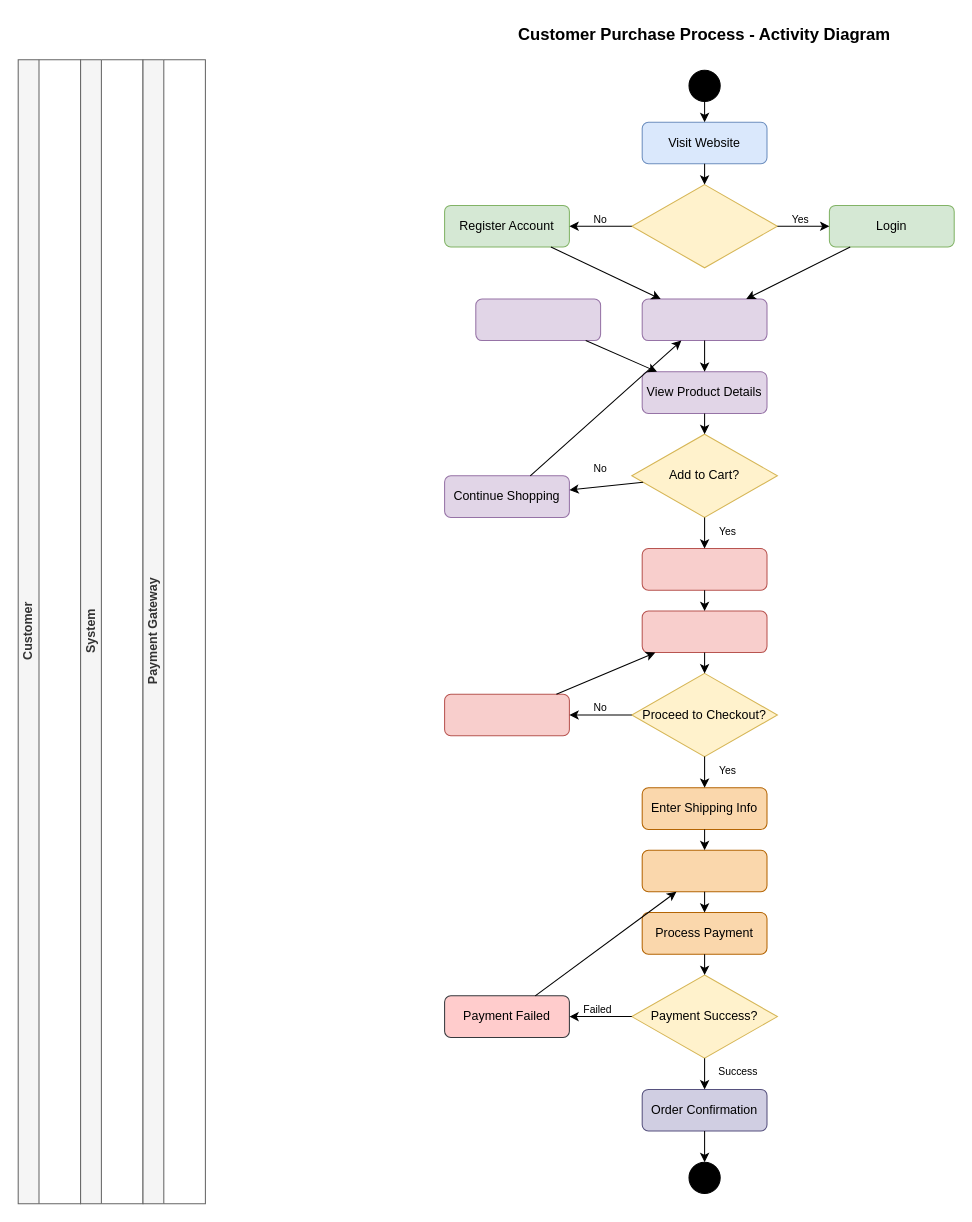
Image size: 972x1222. Some labels were removed from this diagram. Here are the shapes that lost their labels. From the top down, the centre of each, then its label:
At point 704,226: "Registered User?".
At point 538,319: "Search Products".
At point 704,319: "Browse Products".
At point 704,569: "Add to Cart".
At point 704,631: "View Shopping Cart".
At point 506,714: "Modify Cart".
At point 704,870: "Select Payment Method".
